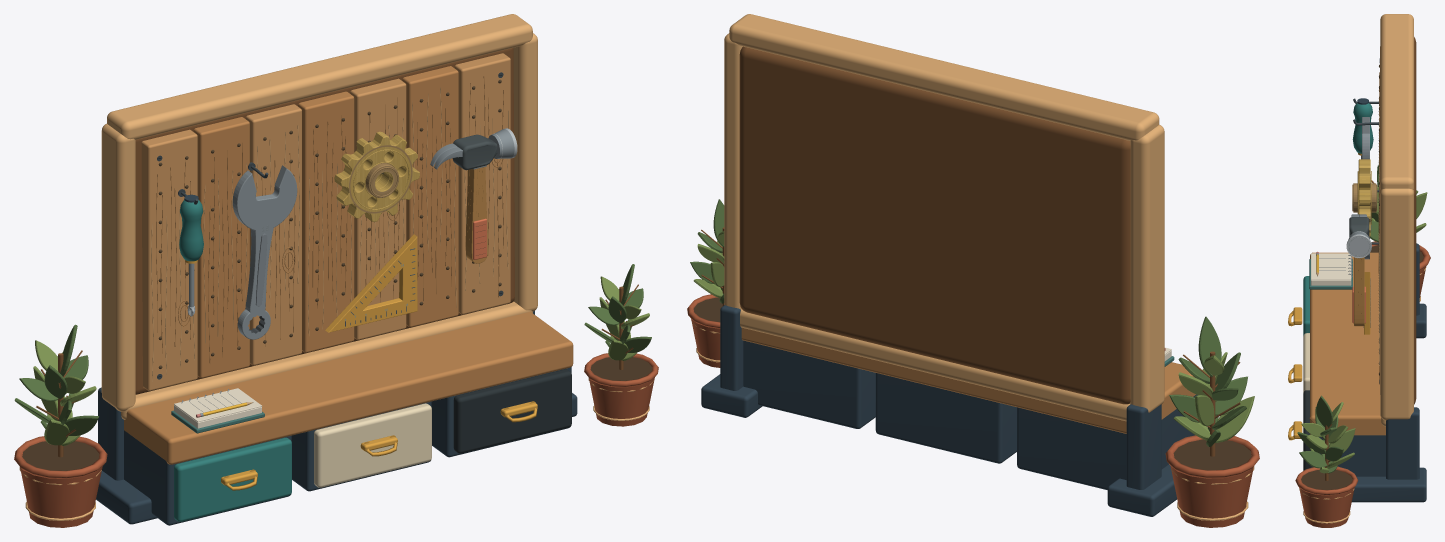
The model's file is workshop-rack-solid-hooks.glb.
The picture shows the model from 3 angles, left to right: view 1: azimuth 30°, elevation 25°; view 2: azimuth 150°, elevation 25°; view 3: azimuth 270°, elevation 25°; orthographic projection. The views are drawn at different scales.
Visible parts, largest first — view 1: timber, plank, Refined_Frame_Top, navy, Refined_Frame_Side_-069, Refined_Grey_Drawer, cream, teal, Refined_Frame_Side_069, grain, Refined_Frame_Bottom, brass_2 (+13 smaller); view 2: darkWood, navy, Refined_Frame_Top, Refined_Frame_Side_-069, Refined_Frame_Bottom, timber, pot, Refined_Frame_Side_069, soil, pot_1, Leaf 8, Leaf 1; view 3: timber, Refined_Frame_Side_069, navy, Refined_Frame_Top, pot_1, Notebook, brass_2, darkWood, soil_1, Wood_Handle, Refined_Original_Yellow_Handles, Teal_Handle (+18 smaller).
Part boxes in pixels (bbox=[...]): timber: bbox=[124, 66, 573, 464]; plank: bbox=[141, 53, 510, 390]; Refined_Frame_Top: bbox=[107, 14, 532, 139]; navy: bbox=[96, 311, 577, 525]; Refined_Frame_Side_-069: bbox=[101, 123, 135, 411]; Refined_Grey_Drawer: bbox=[453, 369, 571, 453]; cream: bbox=[314, 403, 431, 487]; teal: bbox=[174, 437, 291, 521]; Refined_Frame_Side_069: bbox=[513, 33, 537, 311]; grain: bbox=[156, 76, 503, 363]; Refined_Frame_Bottom: bbox=[121, 301, 532, 419]; brass_2: bbox=[334, 131, 419, 221]; darkWood: bbox=[739, 46, 1130, 404]; navy: bbox=[701, 305, 1197, 516]; Refined_Frame_Top: bbox=[729, 14, 1159, 140]; Refined_Frame_Side_-069: bbox=[1130, 125, 1164, 412]; Refined_Frame_Bottom: bbox=[740, 309, 1130, 421]; timber: bbox=[741, 327, 1195, 433]; pot: bbox=[1165, 435, 1259, 527]; Refined_Frame_Side_069: bbox=[724, 33, 742, 309]; soil: bbox=[1173, 439, 1251, 470]; pot_1: bbox=[687, 294, 720, 367]; Leaf 8: bbox=[1198, 316, 1221, 376]; Leaf 1: bbox=[1215, 396, 1254, 442]; timber: bbox=[1310, 68, 1385, 435]; Refined_Frame_Side_069: bbox=[1380, 188, 1413, 420]; navy: bbox=[1313, 243, 1426, 502]; Refined_Frame_Top: bbox=[1380, 14, 1413, 189]; pot_1: bbox=[1295, 466, 1358, 527]; Notebook: bbox=[1309, 253, 1352, 289]; brass_2: bbox=[1352, 159, 1377, 236]; darkWood: bbox=[1414, 37, 1416, 404]; soil_1: bbox=[1301, 470, 1352, 489]; Wood_Handle: bbox=[1354, 257, 1364, 326]; Refined_Original_Yellow_Handles: bbox=[1288, 307, 1302, 440]; Teal_Handle: bbox=[1352, 103, 1373, 153].
Bounding box in the file's own units: 2.04 × 1.25 × 0.5082.
56 materials, 1 textured.
